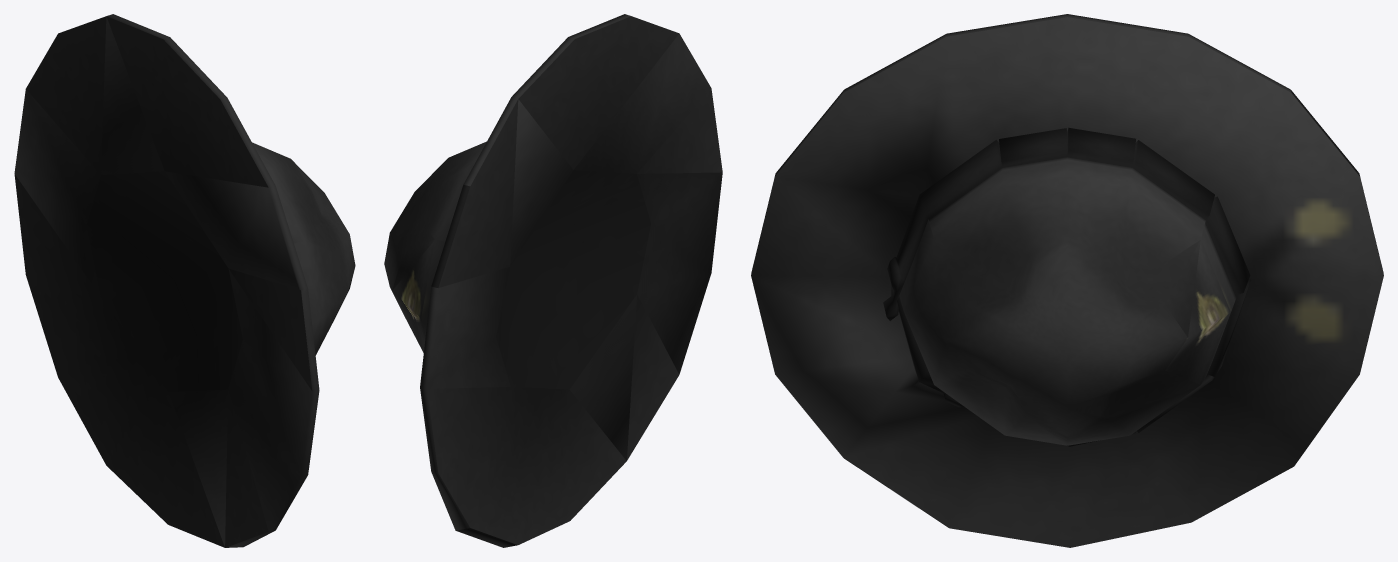
Rendered from SheriffEliHat.fbx.
3 views of the same model, side by side, from view 1: azimuth 30°, elevation 25°; view 2: azimuth 150°, elevation 25°; view 3: azimuth 270°, elevation 25° (orthographic). The views are drawn at different scales.
Parts seen in each view (by area): view 1: M_PoliceHat; view 2: M_PoliceHat; view 3: M_PoliceHat.
Boxes of the visible parts, <box> form: M_PoliceHat: <box>14,14,355,547</box>; M_PoliceHat: <box>384,14,722,547</box>; M_PoliceHat: <box>751,14,1383,547</box>.
Bounding box in the file's own units: 0.0906 × 0.2459 × 0.2703.
